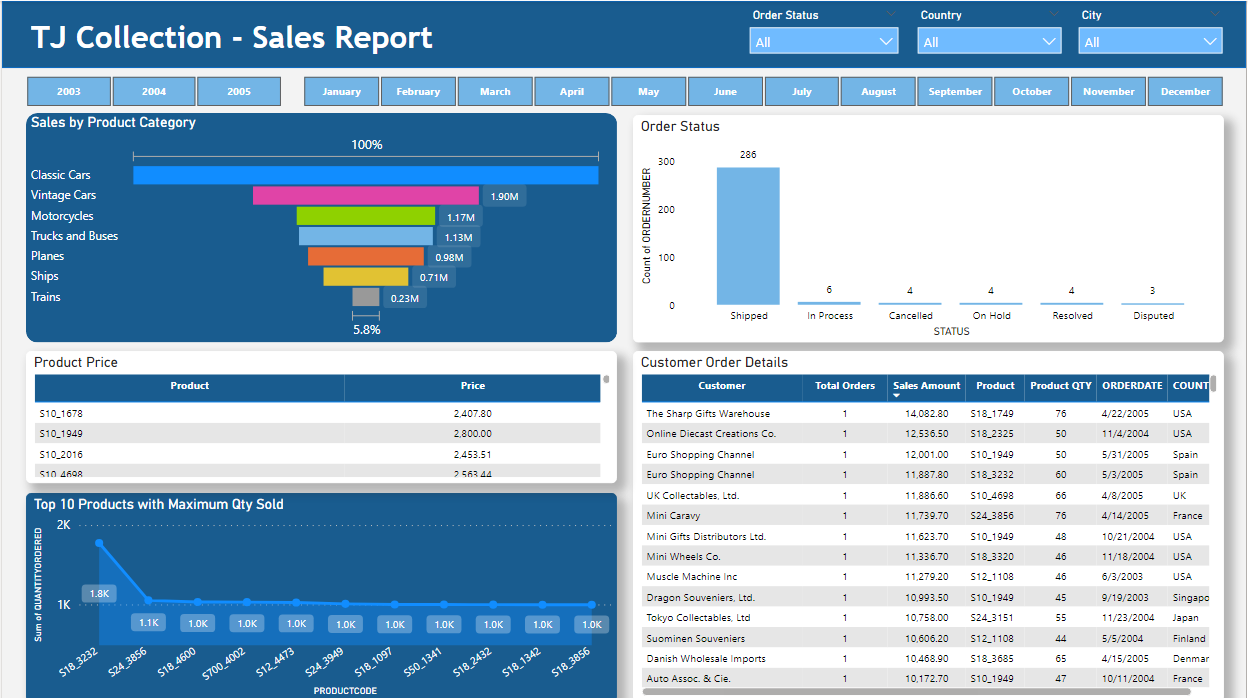

What the dashboard file says about the page in this screenshot:
{"tool":"powerbi","page":{"name":"Product & Order Analysis","canvas":[1280,720],"ordinal":2},"visuals":[{"type":"shape","box":[0,0,1280,68.9],"z":0},{"type":"shape","box":[24.9,115,608.4,236.3],"z":1000},{"type":"slicer","fields":{"Values":["sales_data.ORDERDATE.Variation.Date Hierarchy.Year"]},"box":[0,71,310.7,44.2],"z":2000},{"type":"slicer","fields":{"Values":["sales_data.ORDERDATE.Variation.Date Hierarchy.Month"]},"box":[285,71,995,44.2],"z":3000},{"type":"clusteredColumnChart","title":"Order Status","fields":{"Category":["sales_data.STATUS"],"Y":["Count(sales_data.ORDERNUMBER)"]},"box":[648.8,117.1,608.4,234.2],"z":4000},{"type":"stackedAreaChart","title":"Top 10 Products with  Maximum Qty Sold","fields":{"Category":["sales_data.PRODUCTCODE"],"Y":["Sum(sales_data.QUANTITYORDERED)"]},"box":[24.9,505.8,608.4,214.5],"z":5000},{"type":"slicer","fields":{"Values":["sales_data.CITY"]},"box":[1097.9,2.1,167.7,55.6],"z":6000},{"type":"slicer","fields":{"Values":["sales_data.COUNTRY"]},"box":[932.2,2.1,167.7,55.6],"z":7000},{"type":"slicer","fields":{"Values":["sales_data.STATUS"]},"box":[759.4,2.1,172.9,55.6],"z":8000},{"type":"textbox","box":[24.7,13.4,443.5,55.6],"z":9000},{"type":"funnel","title":"Sales by Product Category","fields":{"Category":["sales_data.PRODUCTLINE"],"Y":["Sum(sales_data.SALES)"]},"box":[24.9,116.1,599.1,235.3],"z":10000},{"type":"tableEx","title":"Customer Order Details","fields":{"Values":["sales_data.CUSTOMERNAME","Count(sales_data.ORDERNUMBER)","Sum(sales_data.SALES)","sales_data.PRODUCTCODE","Sum(sales_data.QUANTITYORDERED)","sales_data.ORDERDATE","sales_data.COUNTRY"]},"box":[648.8,359.6,608.4,360.7],"z":11000},{"type":"tableEx","title":"Product Price","fields":{"Values":["sales_data.PRODUCTCODE","Sum(sales_data.UnitePrice)"]},"box":[24.9,359.6,608.4,135.8],"z":12000}]}

Visuals, with their boxes in screenshot pixels (x1, y1, x2, y2), scaled from the page's 1280x720 canvas onto the 1248x698 screenshot:
shape: BBox(0, 0, 1247, 67)
shape: BBox(24, 111, 617, 341)
slicer - sales_data.ORDERDATE.Variation.Date Hierarchy.Year: BBox(0, 69, 303, 112)
slicer - sales_data.ORDERDATE.Variation.Date Hierarchy.Month: BBox(278, 69, 1247, 112)
"Order Status" clusteredColumnChart: BBox(633, 114, 1226, 341)
"Top 10 Products with  Maximum Qty Sold" stackedAreaChart: BBox(24, 490, 617, 697)
slicer - sales_data.CITY: BBox(1070, 2, 1234, 56)
slicer - sales_data.COUNTRY: BBox(909, 2, 1072, 56)
slicer - sales_data.STATUS: BBox(740, 2, 909, 56)
textbox: BBox(24, 13, 456, 67)
"Sales by Product Category" funnel: BBox(24, 113, 608, 341)
"Customer Order Details" tableEx: BBox(633, 349, 1226, 697)
"Product Price" tableEx: BBox(24, 349, 617, 480)
